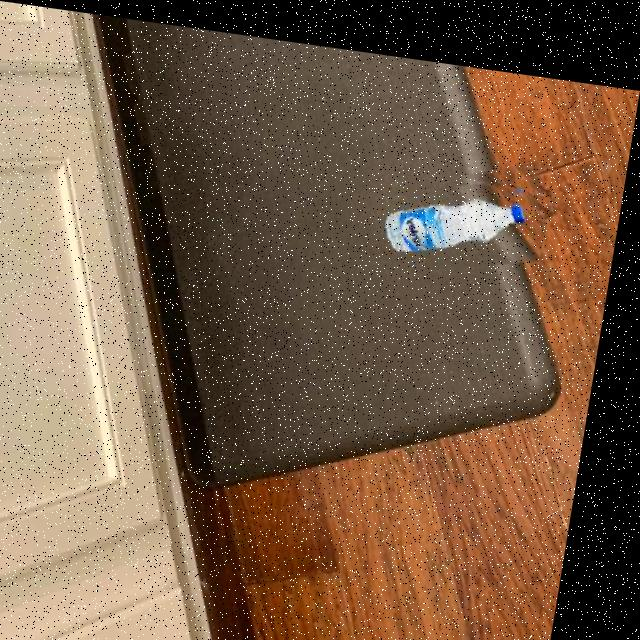plasticbottle: (350, 140, 556, 266)
